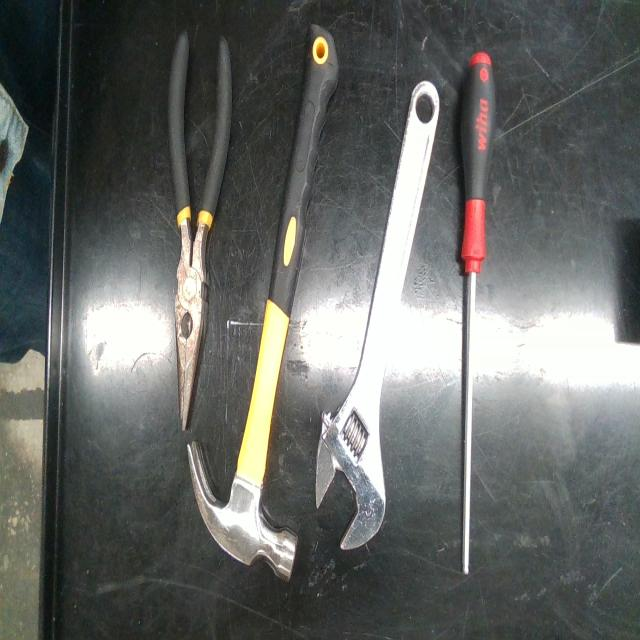Screwdriver: (461, 51, 495, 574)
